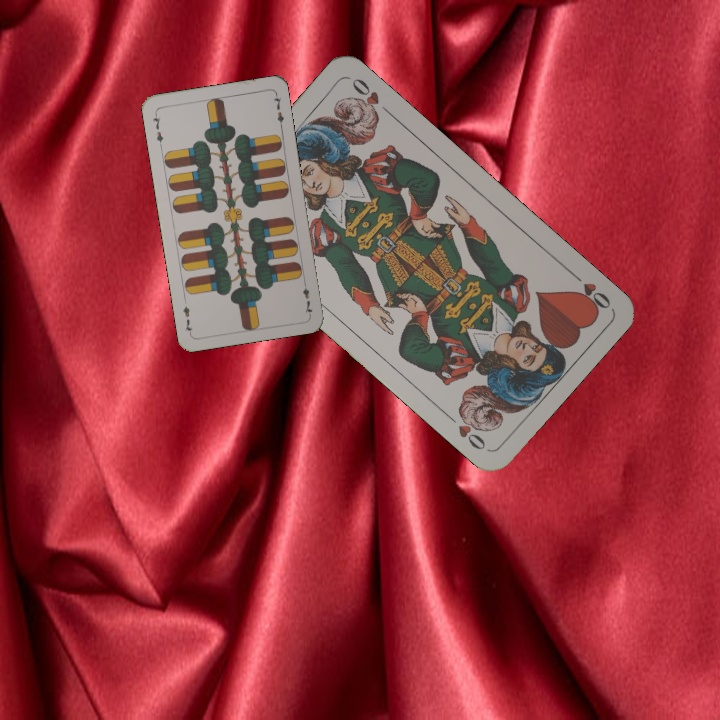E7: (149, 109, 166, 150), (299, 276, 315, 317)
HO: (565, 266, 613, 315)
